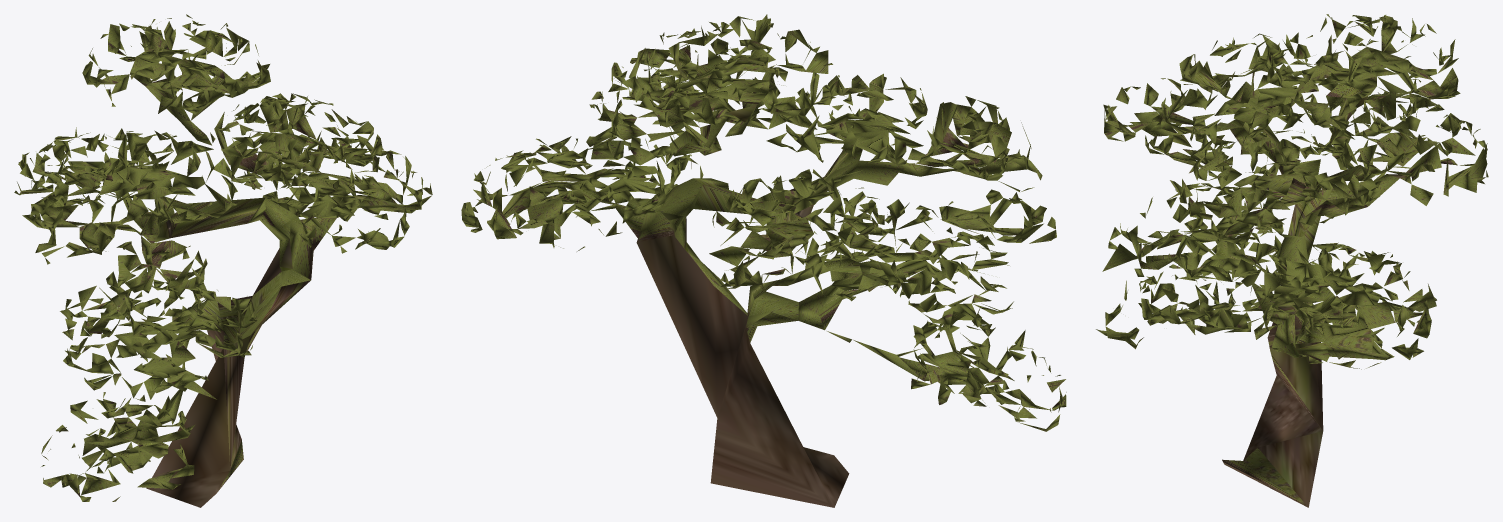
File: lib_bonsai.far.glb
3 views of the same model, side by side, from view 1: azimuth 30°, elevation 25°; view 2: azimuth 150°, elevation 25°; view 3: azimuth 270°, elevation 25° (orthographic). The views are drawn at different scales.
Parts seen in each view (by area): view 1: output_unwrapped; view 2: output_unwrapped; view 3: output_unwrapped.
Boxes of the visible parts, x1=… form: output_unwrapped: x1=14, y1=14, x2=432, y2=507; output_unwrapped: x1=461, y1=14, x2=1066, y2=507; output_unwrapped: x1=1096, y1=14, x2=1488, y2=507.
Bounding box in the file's own units: 1.94 × 1.78 × 1.39.
1 material, 1 textured.
